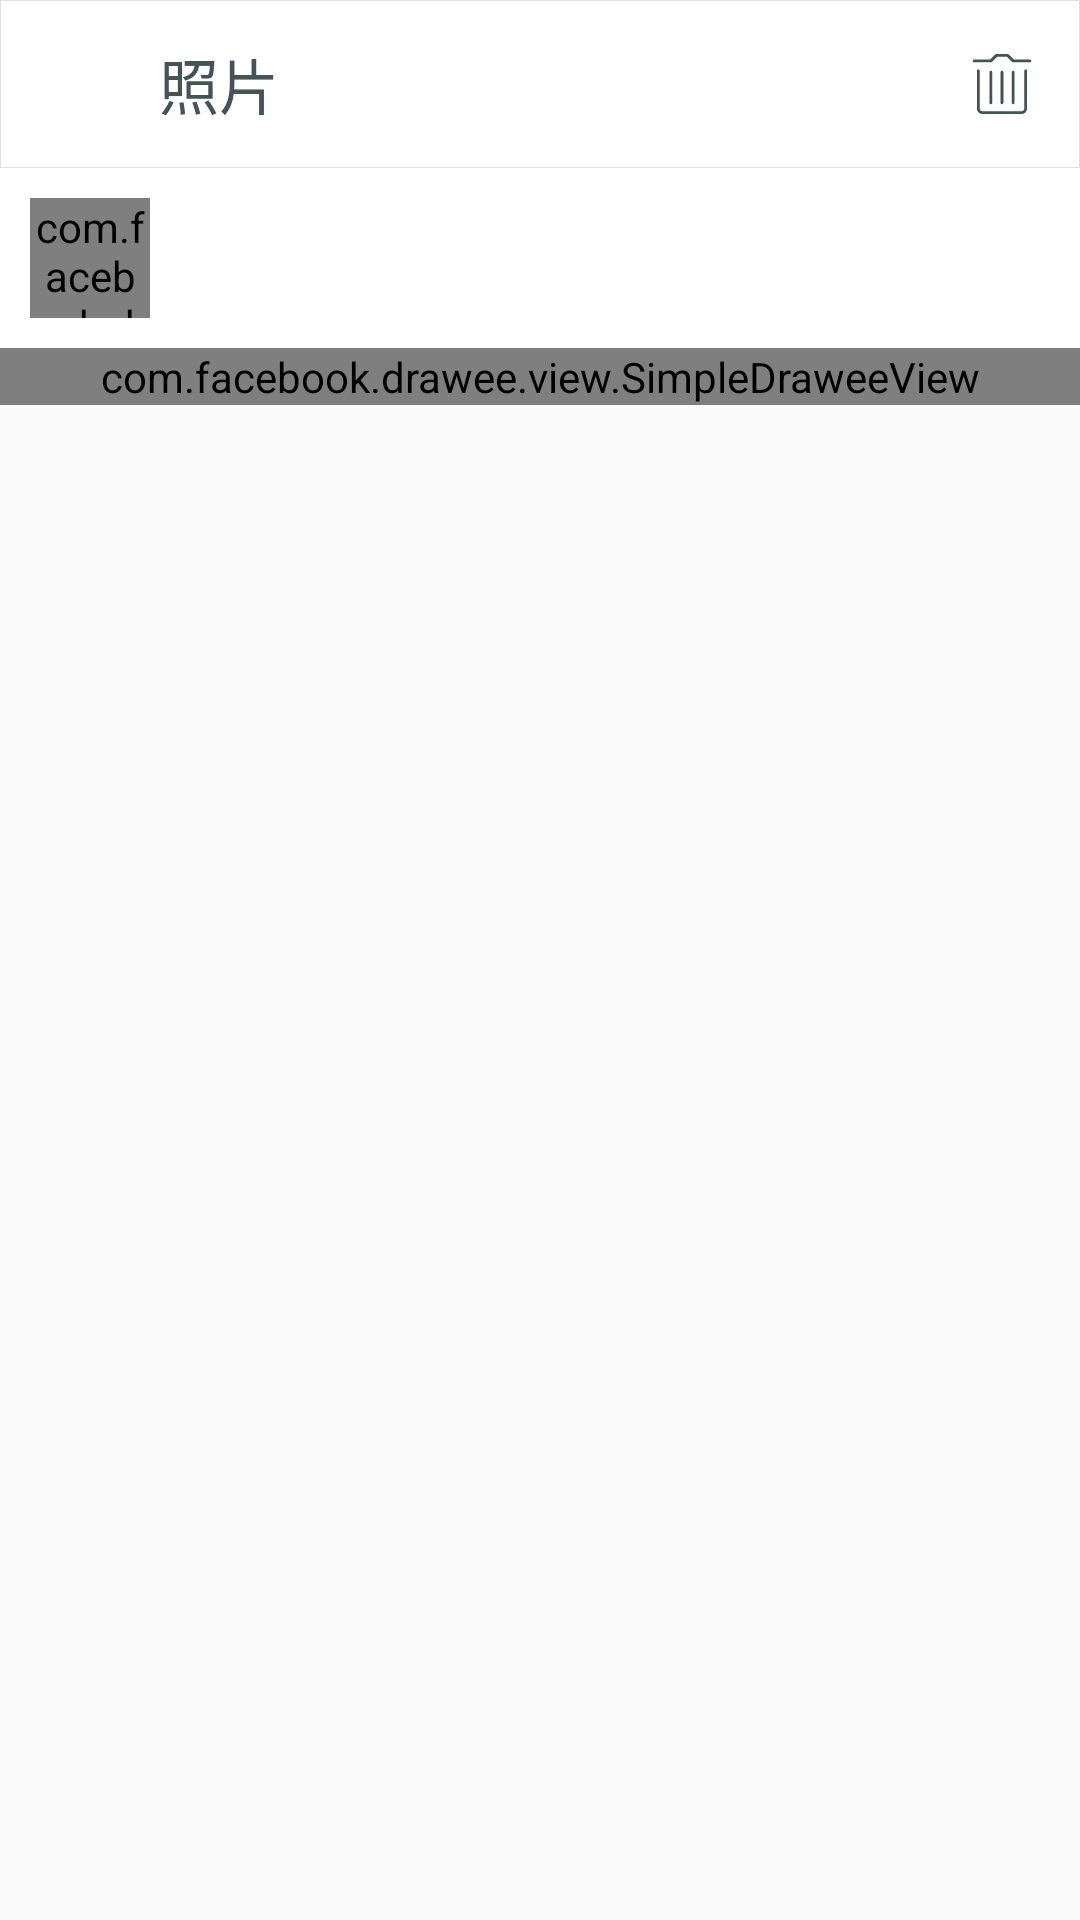

Named icons in this screenshot (1080px x 1920px) and their centers, (x,y):
delete: (1002,84)
